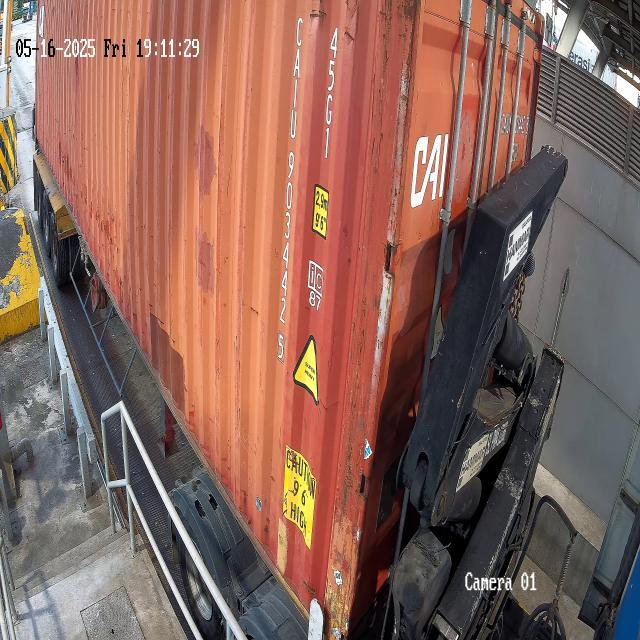ISO: (322, 21, 345, 171)
container_number: (267, 5, 305, 378)
